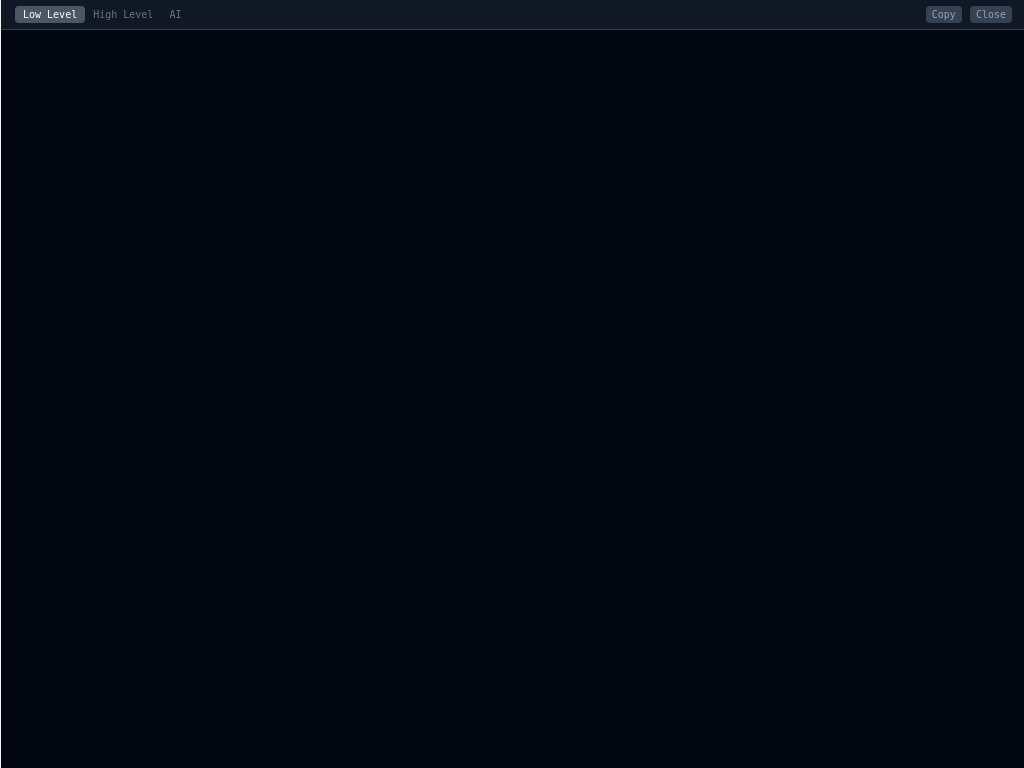
Test case: the gate says which profile it looked at, and what is wrong with it › reaches the decompile panel's banner too — one function, both gates
This screenshot has width=1024, height=768.
Click the button "AI" at {"x": 175, "y": 15}, box [161,6,189,23]
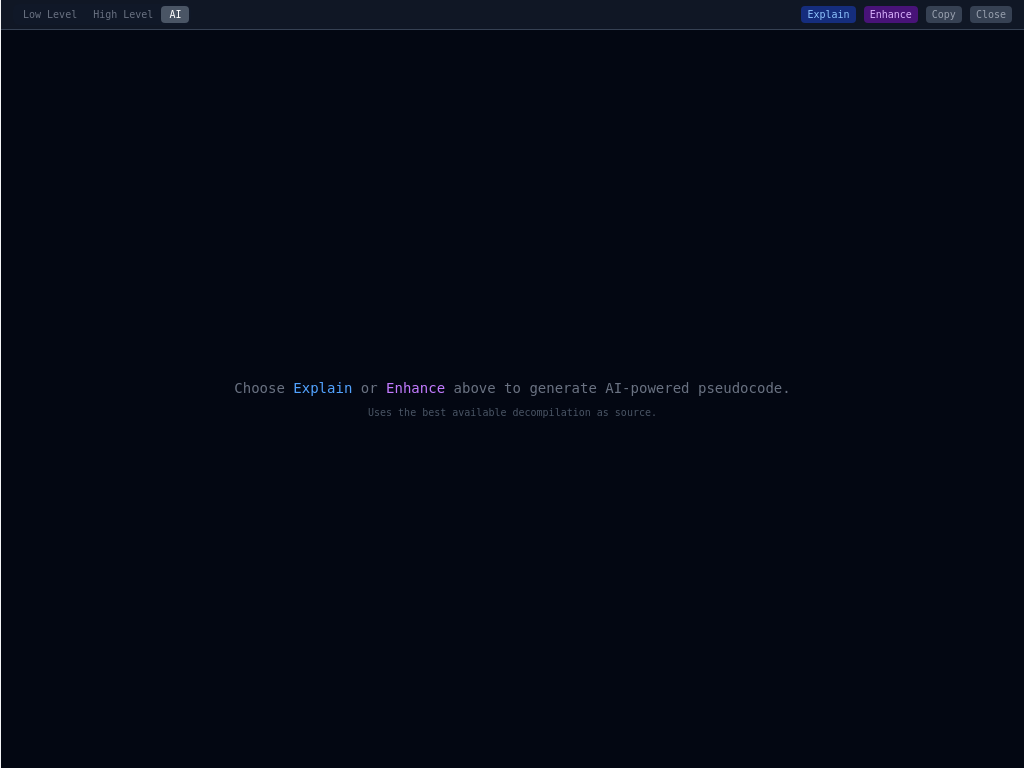
Click the button "Enhance" at {"x": 891, "y": 15}, box [864,6,918,23]
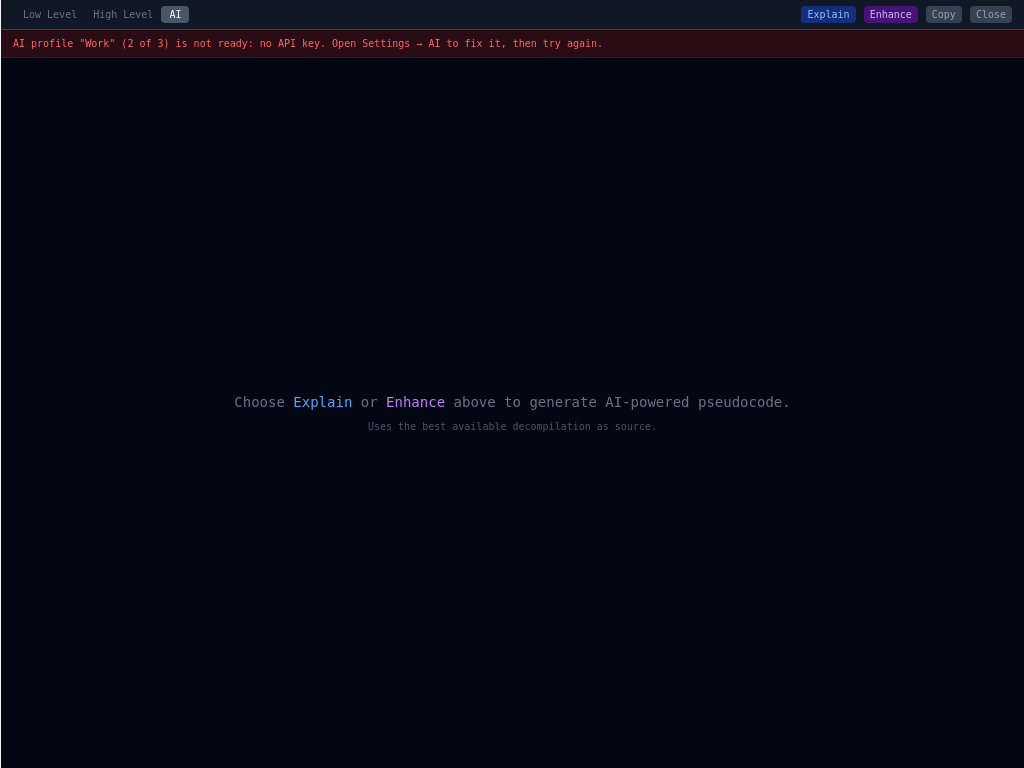
Result: the text "AI profile \"Work\" (2 of 3) is not ready: no API key." is shown at [13,38,603,49]
